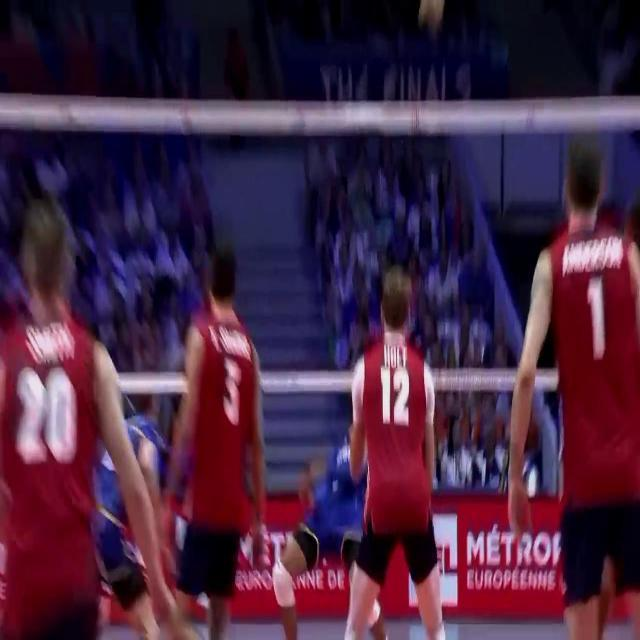volleyball: (296, 457, 328, 509)
